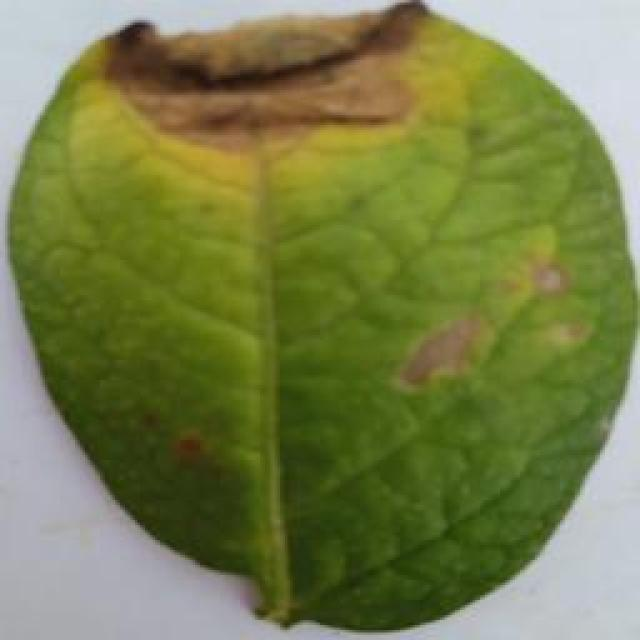Potato_Late_Blight: (12, 6, 628, 631)
